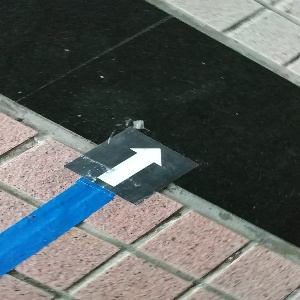straight: (65, 125, 197, 203)
